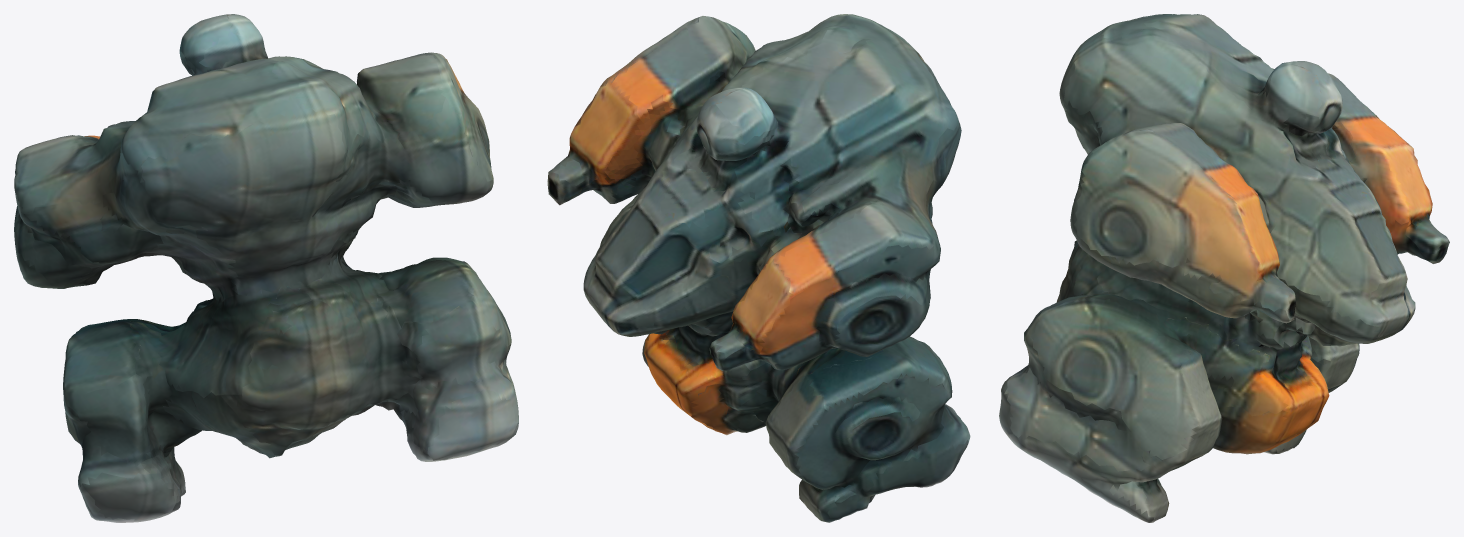
File: Torso_2.glb
3 views of the same model, side by side, from view 1: azimuth 30°, elevation 25°; view 2: azimuth 150°, elevation 25°; view 3: azimuth 270°, elevation 25° (orthographic). The views are drawn at different scales.
Visible parts, largest first — view 1: world; view 2: world; view 3: world.
Boxes of the visible parts, x1,y1,x2,y2 form: world: [14, 14, 518, 522]; world: [547, 14, 970, 522]; world: [999, 14, 1449, 522].
Size of the model in its own units: 0.8481 by 0.8909 by 0.826.
1 material, 1 textured.
